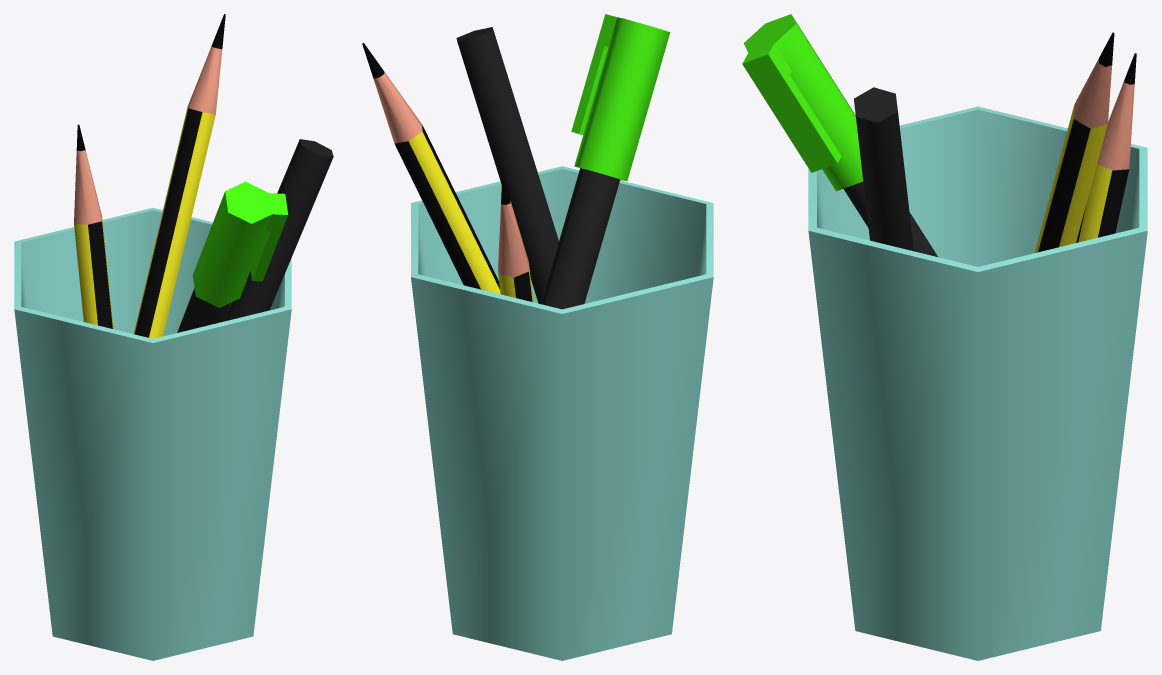
Rendered from llapiser.FBX.
The picture shows the model from 3 angles, left to right: view 1: azimuth 30°, elevation 25°; view 2: azimuth 150°, elevation 25°; view 3: azimuth 270°, elevation 25°; orthographic projection. The views are drawn at different scales.
Visible parts, largest first — view 1: Cylinder003; view 2: Cylinder003; view 3: Cylinder003.
Boxes of the visible parts, <box> form: Cylinder003: <box>14,14,333,660</box>; Cylinder003: <box>362,14,713,660</box>; Cylinder003: <box>742,14,1147,660</box>.
Bounding box in the file's own units: 2.39 × 4.34 × 2.48.
